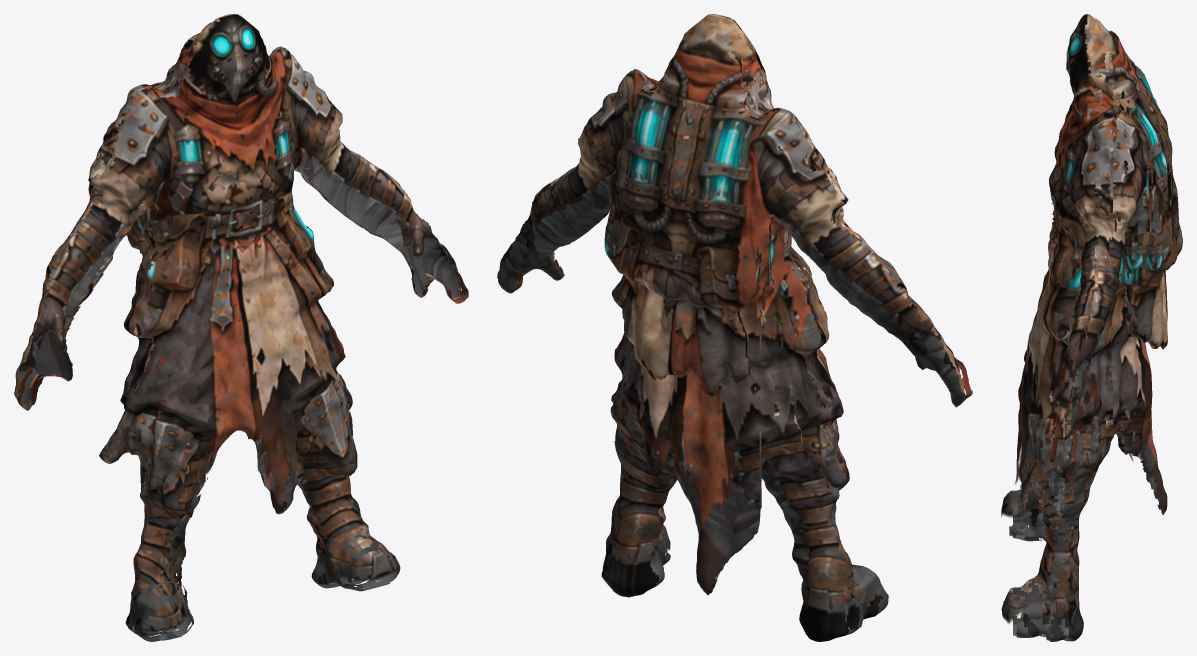
Rendered from ashland-survivor.glb.
3 views of the same model, side by side, from view 1: azimuth 30°, elevation 25°; view 2: azimuth 150°, elevation 25°; view 3: azimuth 270°, elevation 25° (orthographic). The views are drawn at different scales.
Parts seen in each view (by area): view 1: geometry_0; view 2: geometry_0; view 3: geometry_0.
Part boxes in pixels (box(x1,y1,x2,y2)): geometry_0: box(14, 14, 468, 641); geometry_0: box(497, 14, 972, 641); geometry_0: box(1001, 14, 1182, 641).
Size of the model in its own units: 0.8184 by 1.03 by 0.2945.
Materials: 4 (4 with a texture image).
